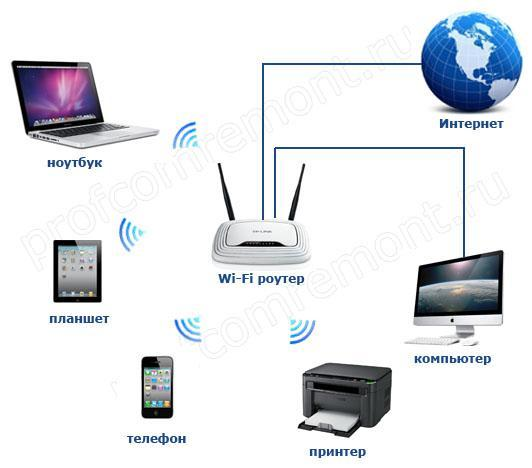router: (211, 164, 309, 266)
